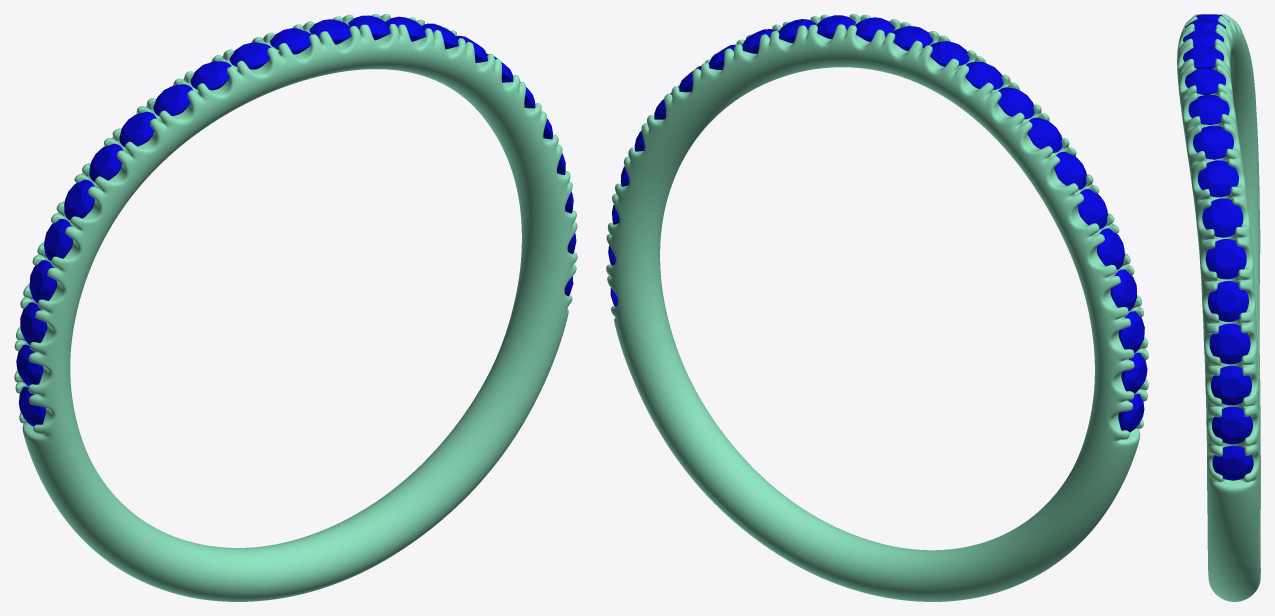
3 views of the same model, side by side, from view 1: azimuth 30°, elevation 25°; view 2: azimuth 150°, elevation 25°; view 3: azimuth 270°, elevation 25° (orthographic). The views are drawn at different scales.
Visible parts, largest first — view 1: Metal03, Diamond_Band.005, Diamond_Band.003, Diamond_Band.004, Diamond_Band.002, Diamond_Band.006, Diamond_Band.001, Diamond_Band.007, Diamond_Band, Diamond_Band.008, Diamond_Band.011; view 2: Metal03, Diamond_Band.004, Diamond_Band.005, Diamond_Band.003, Diamond_Band.002, Diamond_Band.006, Diamond_Band.007, Diamond_Band.001, Diamond_Band, Diamond_Band.008; view 3: Metal03, Diamond_Band.016, Diamond_Band.018, Diamond_Band.017, Diamond_Band.015, Diamond_Band.019, Diamond_Band.014, Diamond_Band.020, Diamond_Band.013, Diamond_Band.021, Diamond_Band.022, Diamond_Band.023 (+3 smaller).
Part boxes in pixels (left/top/right/bottom): Metal03: left=14, top=14, right=577, bottom=601; Diamond_Band.005: left=64, top=179, right=94, bottom=220; Diamond_Band.003: left=119, top=111, right=156, bottom=146; Diamond_Band.004: left=89, top=143, right=123, bottom=181; Diamond_Band.002: left=153, top=84, right=192, bottom=116; Diamond_Band.006: left=44, top=219, right=72, bottom=260; Diamond_Band.001: left=190, top=61, right=231, bottom=90; Diamond_Band.007: left=29, top=260, right=56, bottom=303; Diamond_Band: left=229, top=42, right=270, bottom=69; Diamond_Band.008: left=20, top=302, right=47, bottom=344; Diamond_Band.011: left=270, top=28, right=311, bottom=54; Metal03: left=606, top=14, right=1148, bottom=601; Diamond_Band.004: left=1054, top=151, right=1086, bottom=189; Diamond_Band.005: left=1078, top=189, right=1107, bottom=229; Diamond_Band.003: left=1027, top=117, right=1062, bottom=152; Diamond_Band.002: left=997, top=87, right=1034, bottom=119; Diamond_Band.006: left=1097, top=228, right=1124, bottom=269; Diamond_Band.007: left=1110, top=269, right=1136, bottom=310; Diamond_Band.001: left=965, top=62, right=1003, bottom=89; Diamond_Band: left=930, top=41, right=969, bottom=66; Diamond_Band.008: left=1118, top=311, right=1144, bottom=352; Metal03: left=1177, top=14, right=1260, bottom=601; Diamond_Band.016: left=1209, top=323, right=1250, bottom=364; Diamond_Band.018: left=1205, top=239, right=1246, bottom=279; Diamond_Band.017: left=1208, top=281, right=1248, bottom=321; Diamond_Band.015: left=1211, top=365, right=1251, bottom=405; Diamond_Band.019: left=1202, top=198, right=1243, bottom=237; Diamond_Band.014: left=1212, top=406, right=1252, bottom=444; Diamond_Band.020: left=1198, top=160, right=1238, bottom=197; Diamond_Band.013: left=1212, top=445, right=1253, bottom=480; Diamond_Band.021: left=1193, top=125, right=1233, bottom=159; Diamond_Band.022: left=1188, top=94, right=1229, bottom=124; Diamond_Band.023: left=1185, top=68, right=1225, bottom=94.
Bounding box in the file's own units: 20.68 × 20.78 × 2.96.
